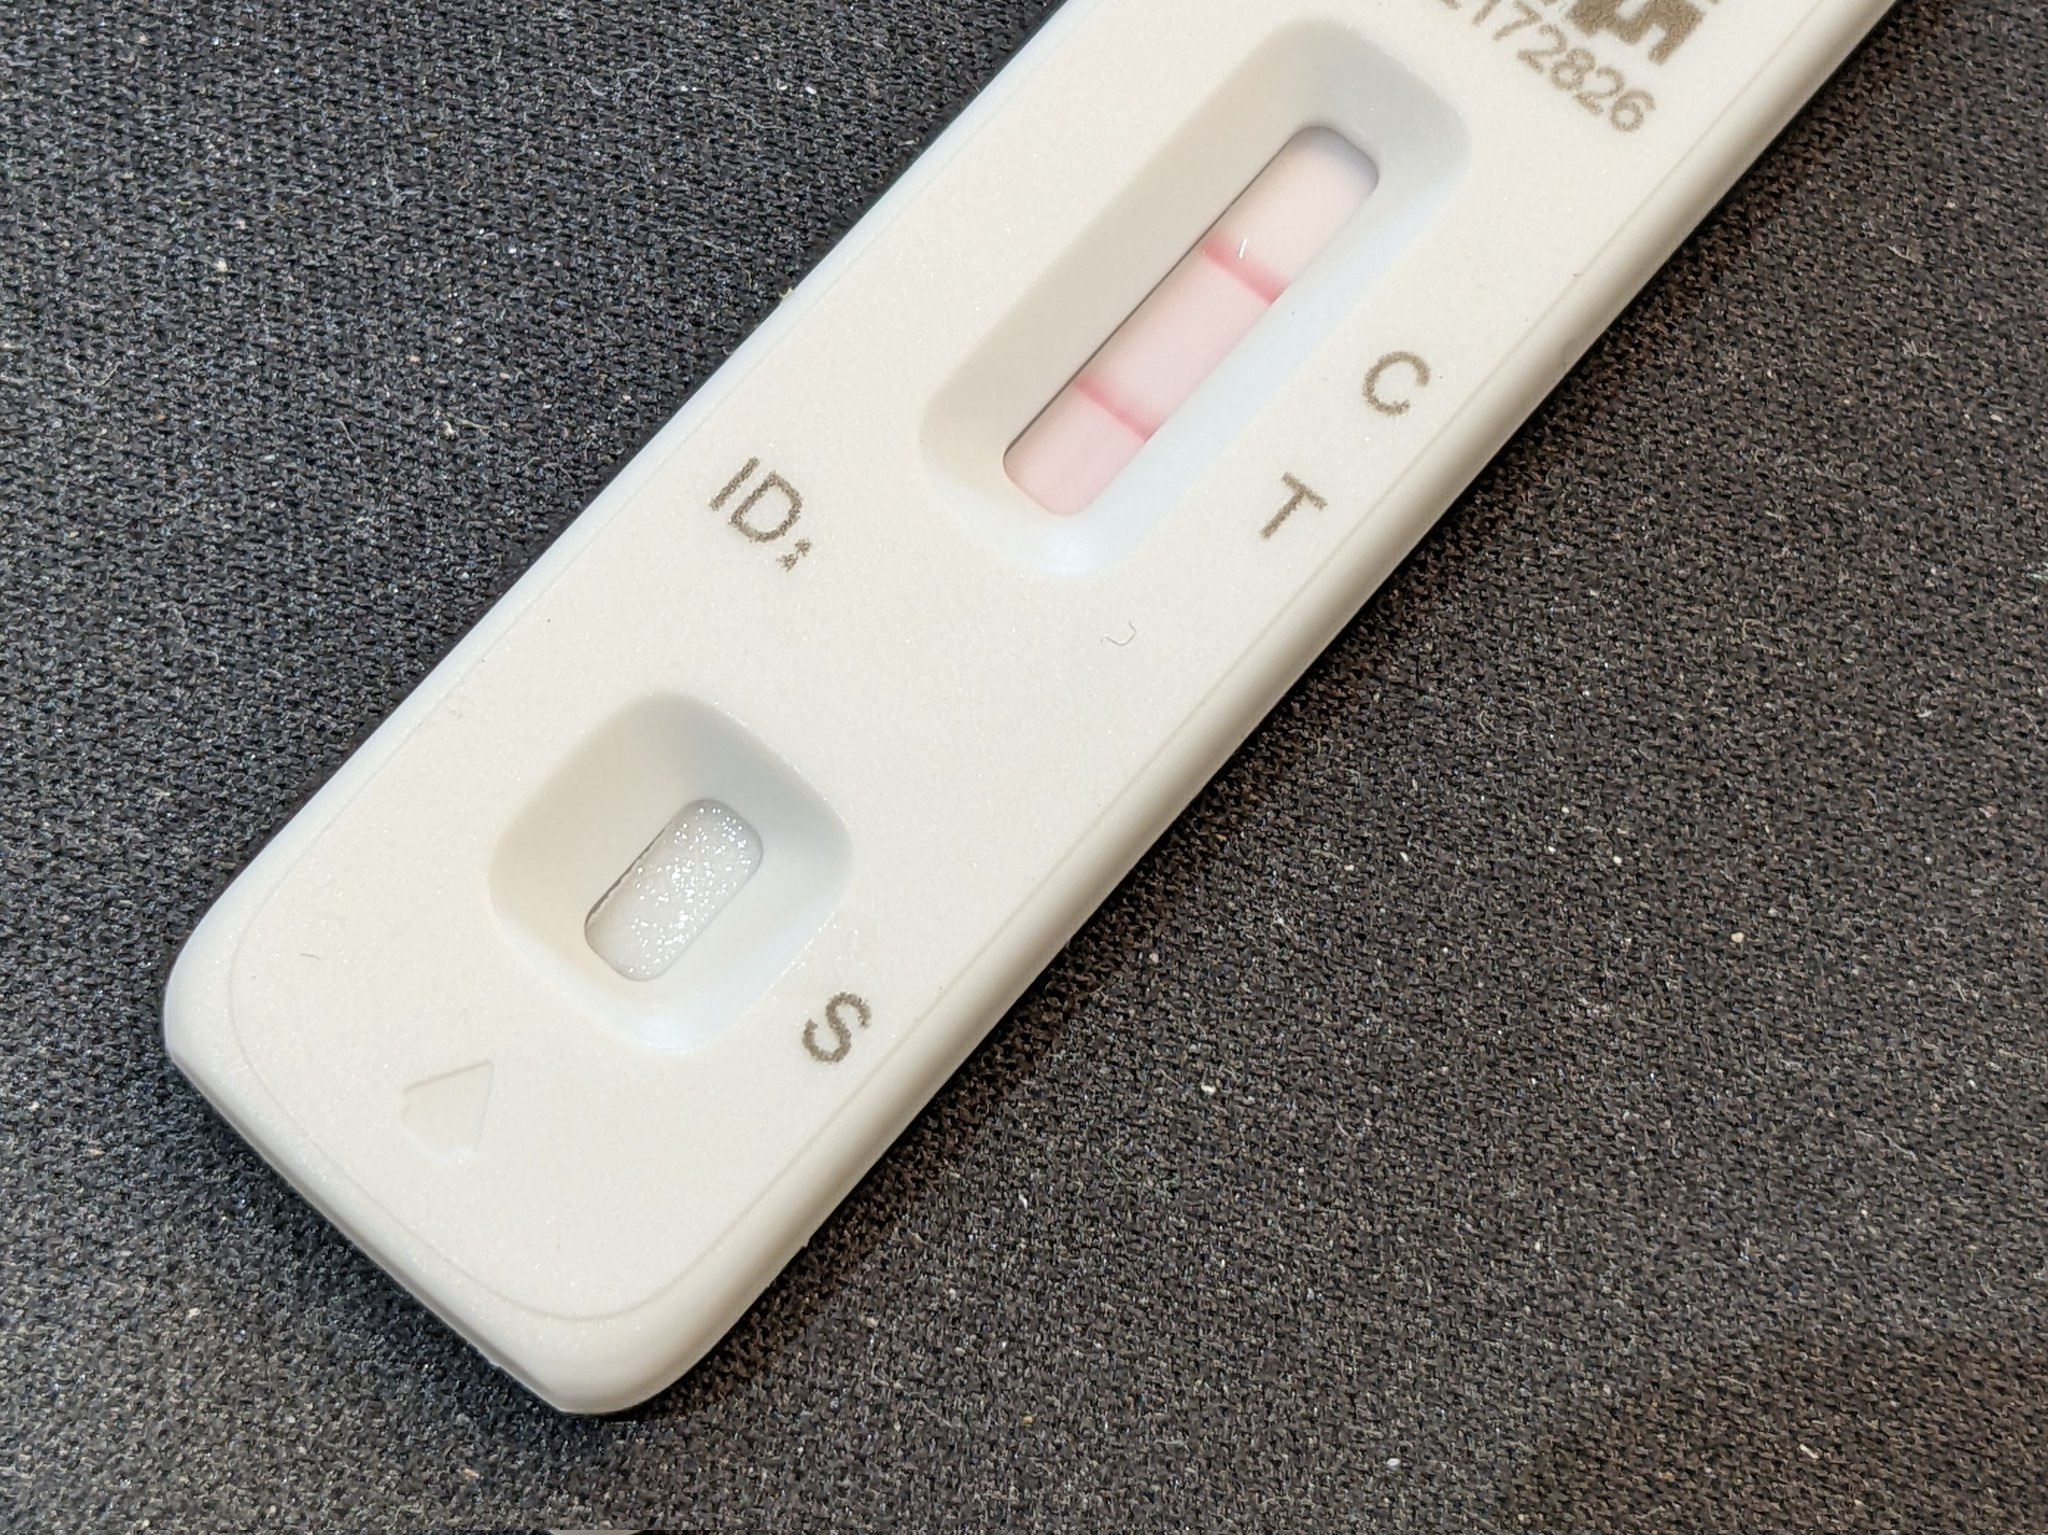Invalid: (589, 763, 768, 1000)
positive: (1030, 40, 1301, 506)
